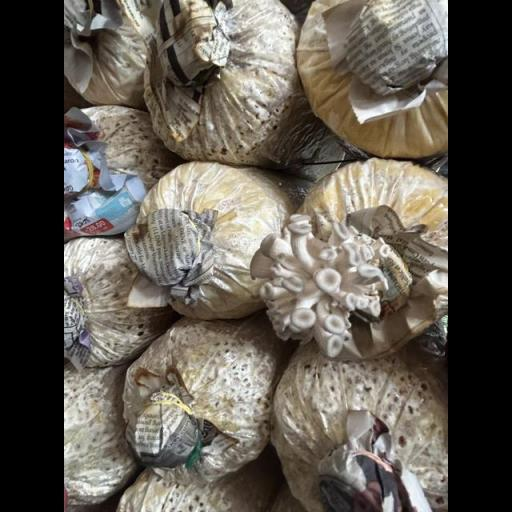White Oyster Mushroom: (246, 212, 396, 361)
